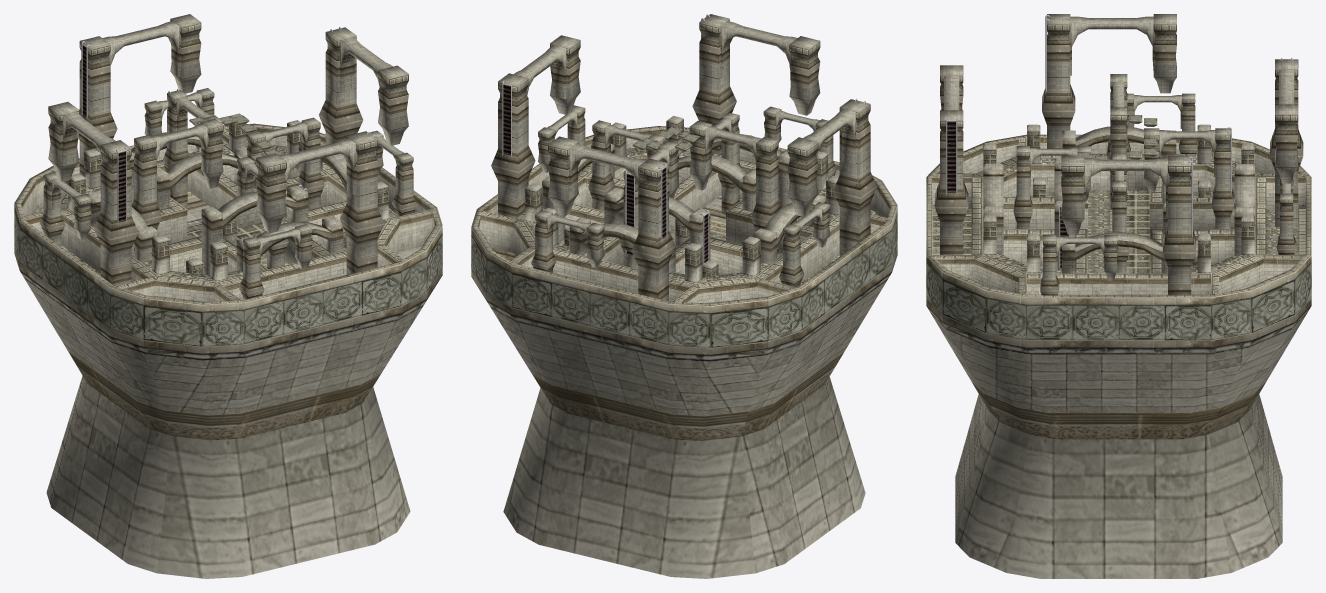
The model's file is Hushardzan_Jrambar.fbx.
3 views of the same model, side by side, from view 1: azimuth 30°, elevation 25°; view 2: azimuth 150°, elevation 25°; view 3: azimuth 270°, elevation 25° (orthographic). The views are drawn at different scales.
Parts seen in each view (by area): view 1: Hushardzan_Jrambar CONCRETE, Hushardzan_Jrambar WATER, Hushardzan_Jrambar METAL; view 2: Hushardzan_Jrambar CONCRETE, Hushardzan_Jrambar METAL, Hushardzan_Jrambar WATER; view 3: Hushardzan_Jrambar CONCRETE, Hushardzan_Jrambar WATER, Hushardzan_Jrambar METAL.
Part boxes in pixels (x1,y1,x2,y2): Hushardzan_Jrambar CONCRETE: (14, 14, 442, 578); Hushardzan_Jrambar WATER: (35, 190, 421, 275); Hushardzan_Jrambar METAL: (81, 27, 375, 224); Hushardzan_Jrambar CONCRETE: (471, 14, 897, 578); Hushardzan_Jrambar METAL: (502, 14, 865, 263); Hushardzan_Jrambar WATER: (492, 195, 876, 284); Hushardzan_Jrambar CONCRETE: (926, 14, 1311, 578); Hushardzan_Jrambar WATER: (932, 190, 1305, 273); Hushardzan_Jrambar METAL: (946, 14, 1292, 267).
Bounding box in the file's own units: 57.96 × 70.05 × 57.96.
